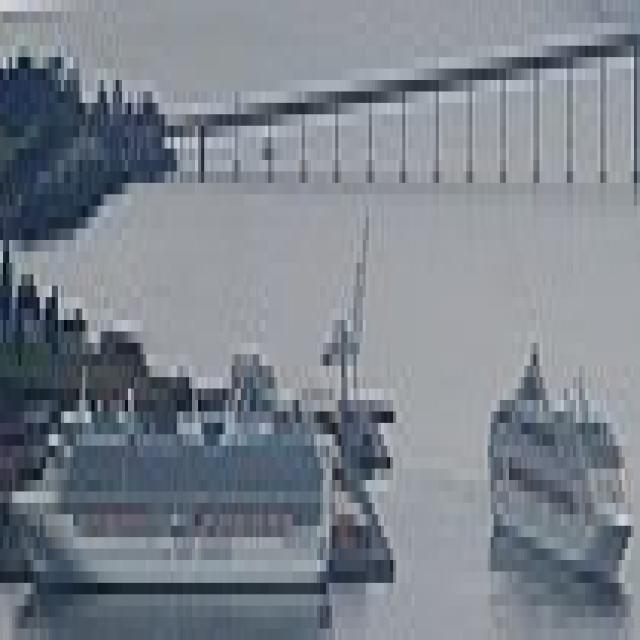Cruise: (3, 343, 332, 594), (484, 320, 631, 571)
